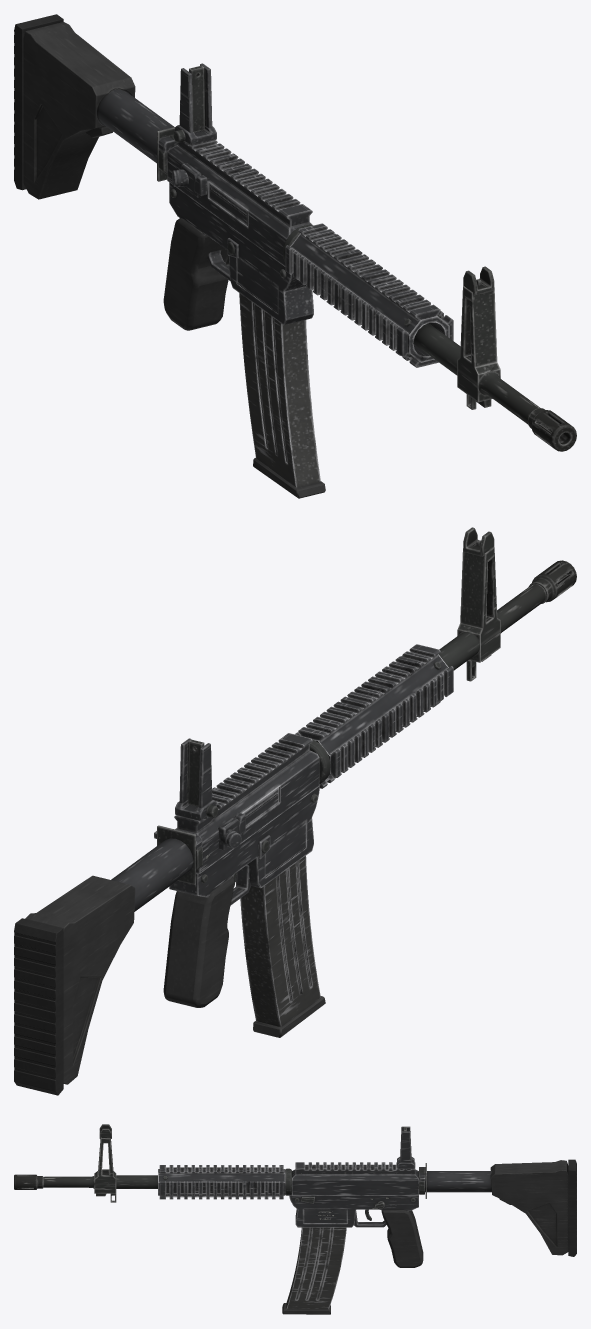
File: m4_carbine.glb
The picture shows the model from 3 angles, top to bottom: view 1: azimuth 30°, elevation 25°; view 2: azimuth 150°, elevation 25°; view 3: azimuth 270°, elevation 25°; orthographic projection. The views are drawn at different scales.
Visible parts, largest first — view 1: body, magazine, rear_sight; view 2: body, magazine, rear_sight; view 3: body, magazine, rear_sight.
Boxes of the visible parts, x1,y1,x2,y2 form: body: (14, 14, 576, 451); magazine: (239, 293, 325, 498); rear_sight: (173, 63, 216, 145); body: (14, 527, 576, 1095); magazine: (240, 856, 325, 1037); rear_sight: (175, 738, 218, 820); body: (14, 1124, 576, 1267); magazine: (282, 1227, 346, 1314); rear_sight: (397, 1126, 414, 1168).
Size of the model in its own units: 0.0494 by 0.279 by 0.77.
1 material, 1 textured.
